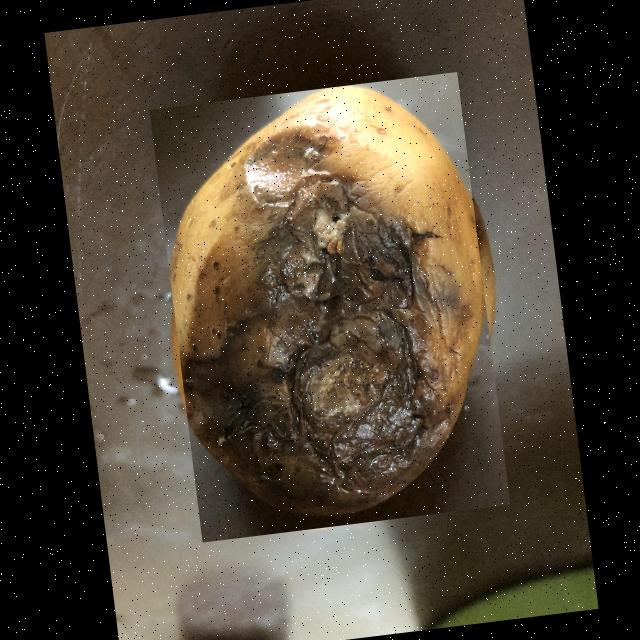Damaged potato: (148, 70, 509, 542)
